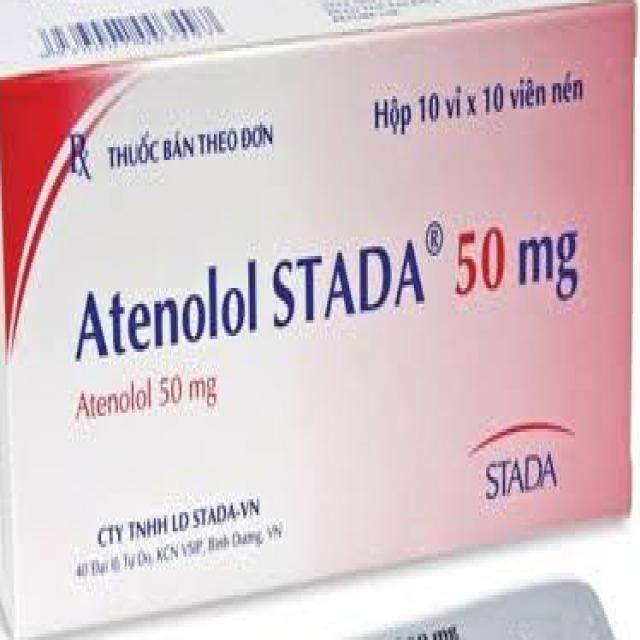drug-name: (69, 236, 428, 366)
